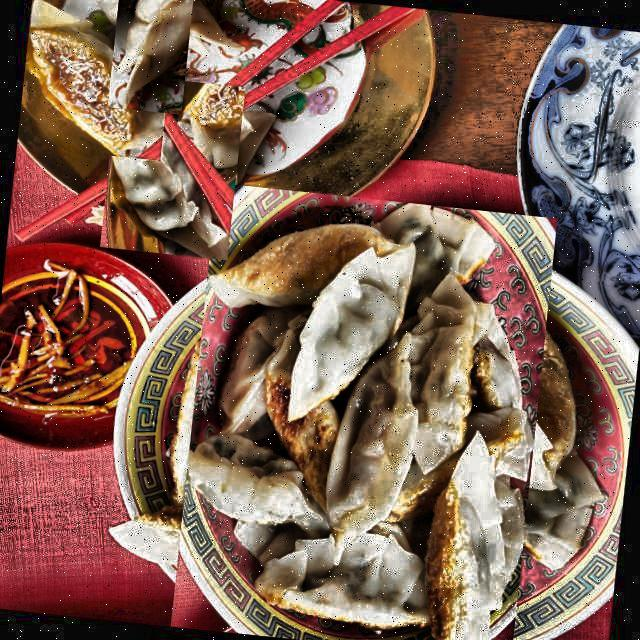Food: (136, 212, 587, 640), (90, 84, 256, 250), (16, 23, 172, 160), (82, 0, 222, 90)
